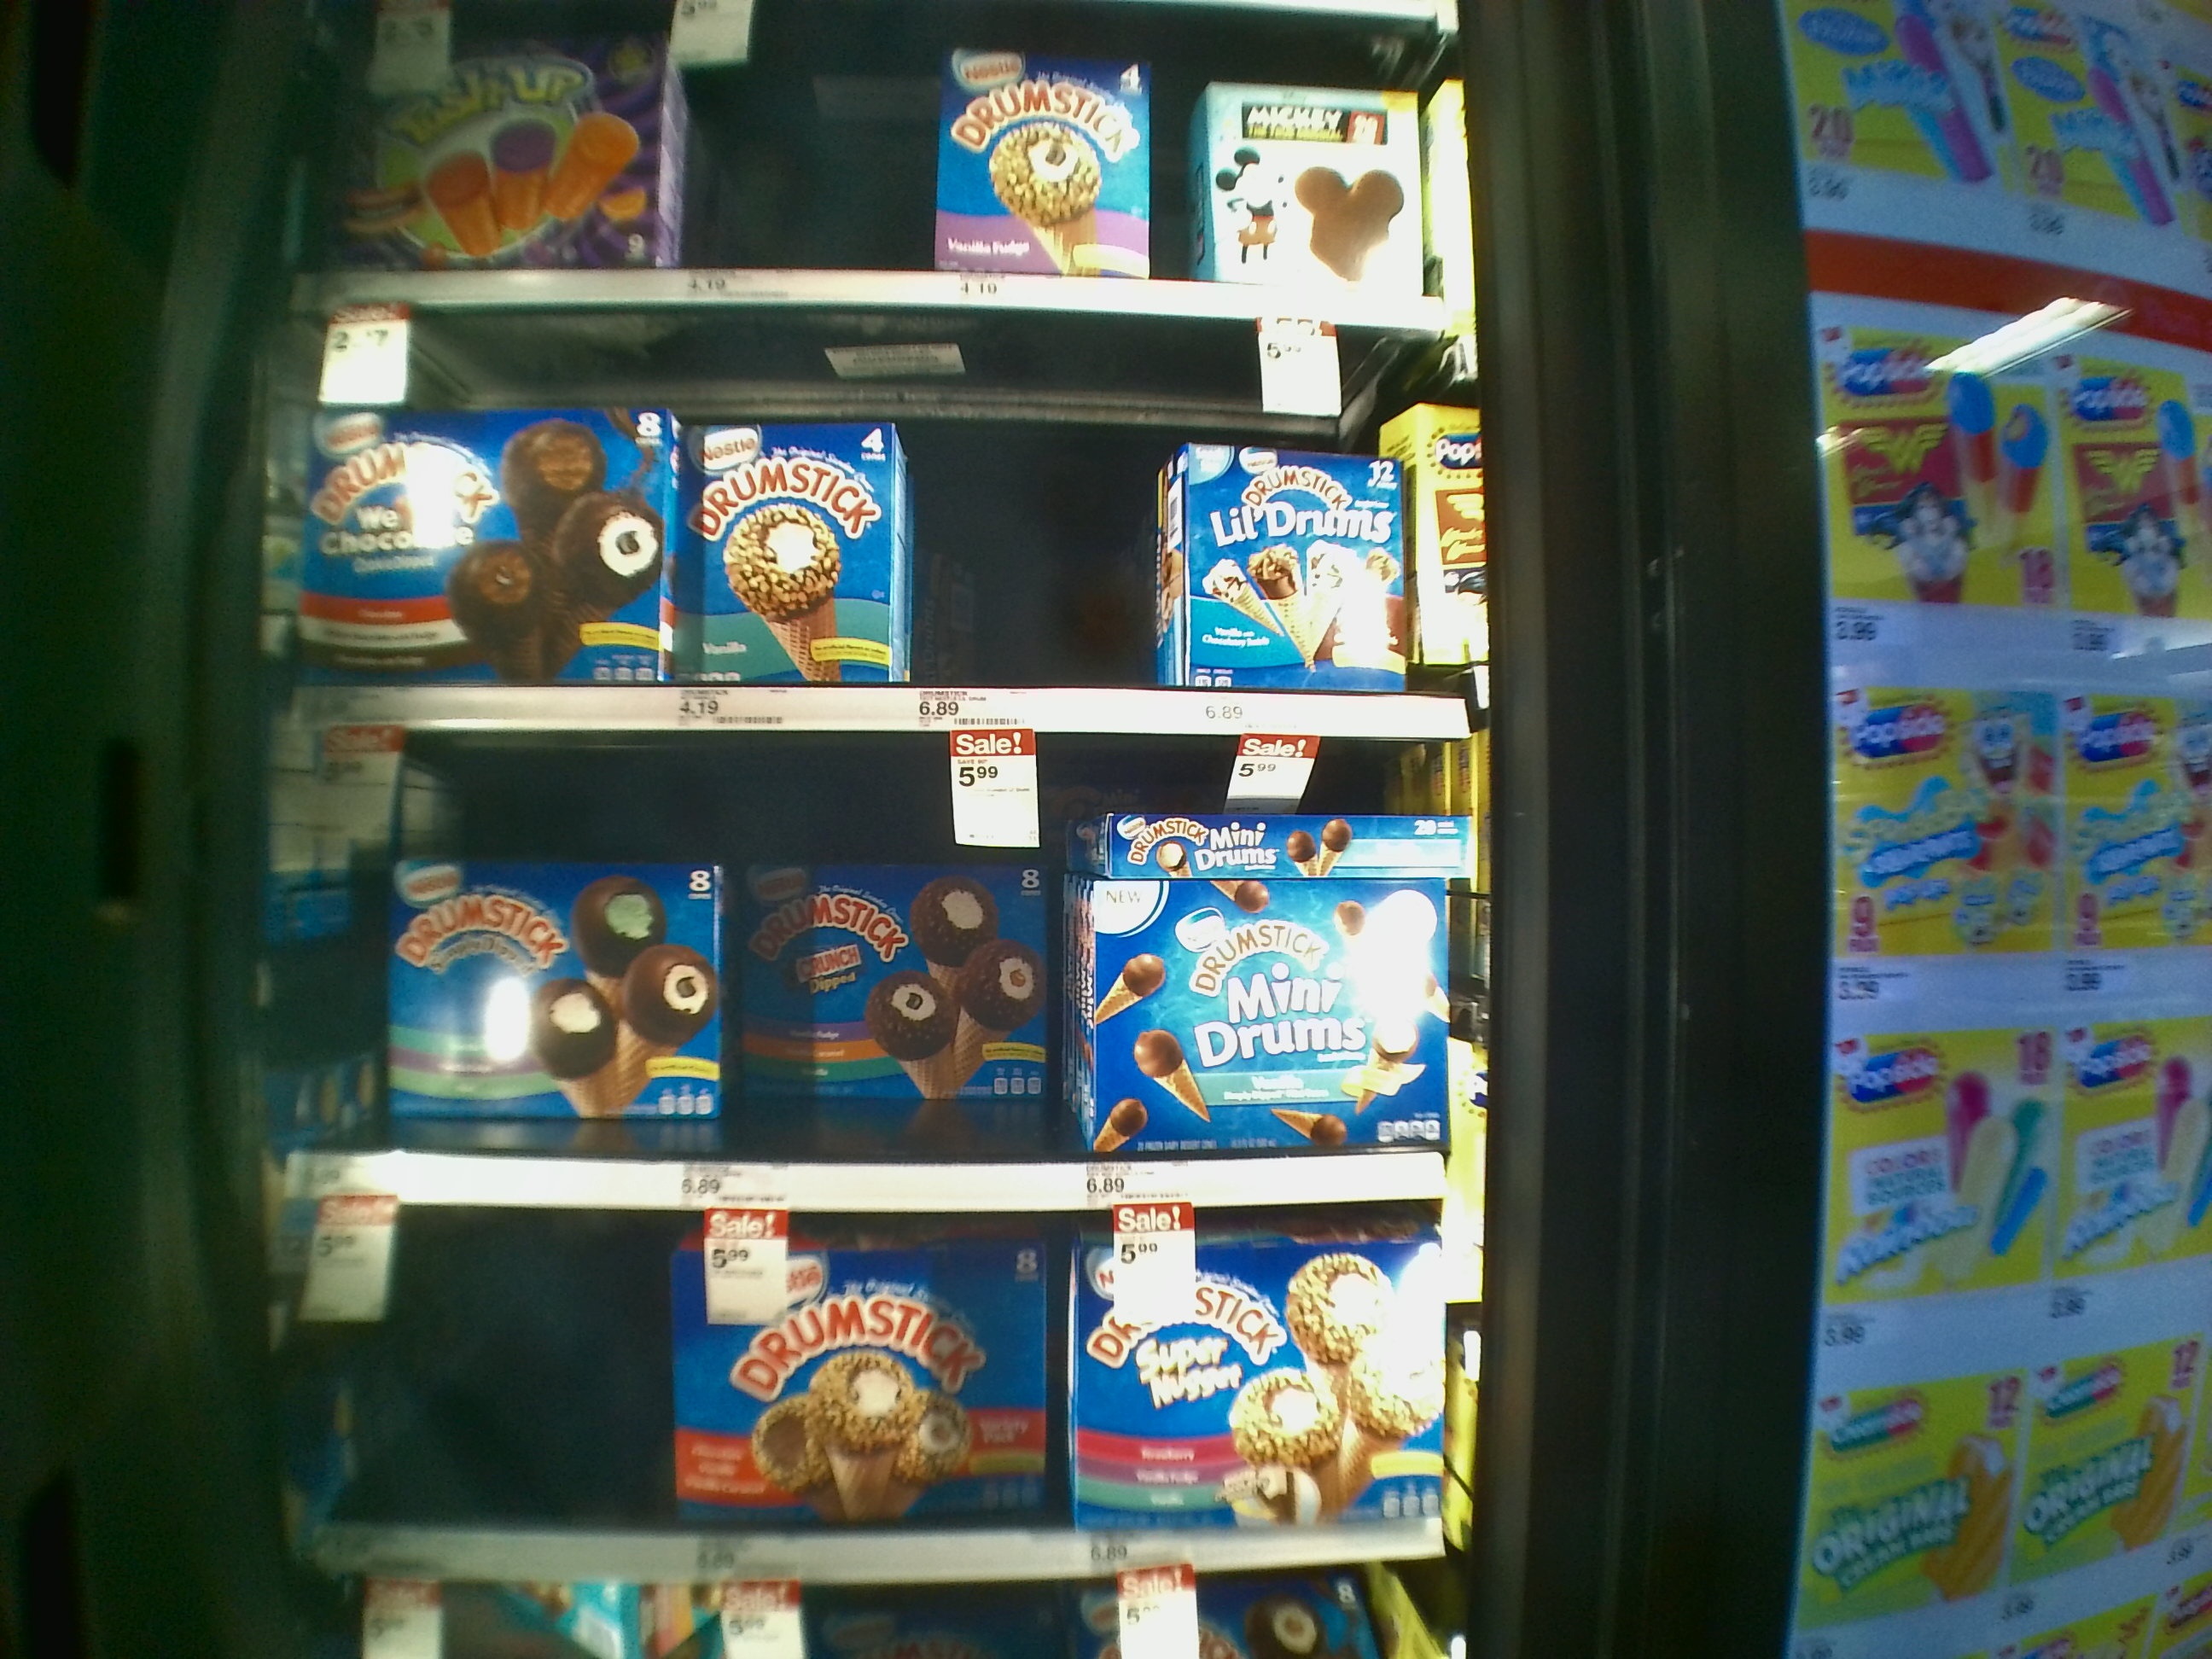ice-cream-shelf: (291, 727, 1479, 1201), (275, 305, 1468, 728), (296, 1206, 1460, 1575)
